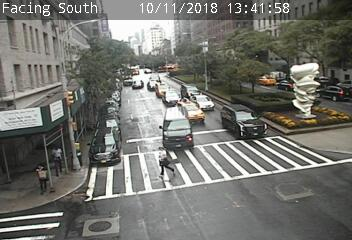car: (221, 104, 268, 139), (163, 107, 193, 149), (89, 129, 120, 165), (174, 101, 205, 123), (315, 85, 351, 102), (189, 95, 214, 110), (181, 84, 202, 100), (162, 90, 181, 105), (276, 78, 295, 92), (156, 83, 172, 98), (257, 75, 276, 86), (148, 80, 160, 91), (132, 80, 144, 89)
